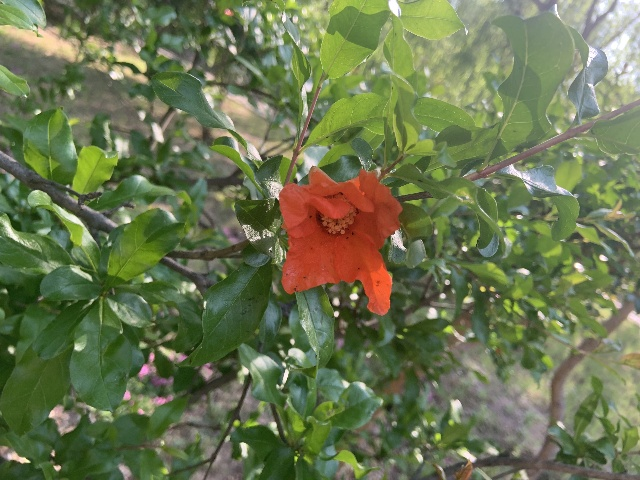flower: (277, 164, 403, 313)
